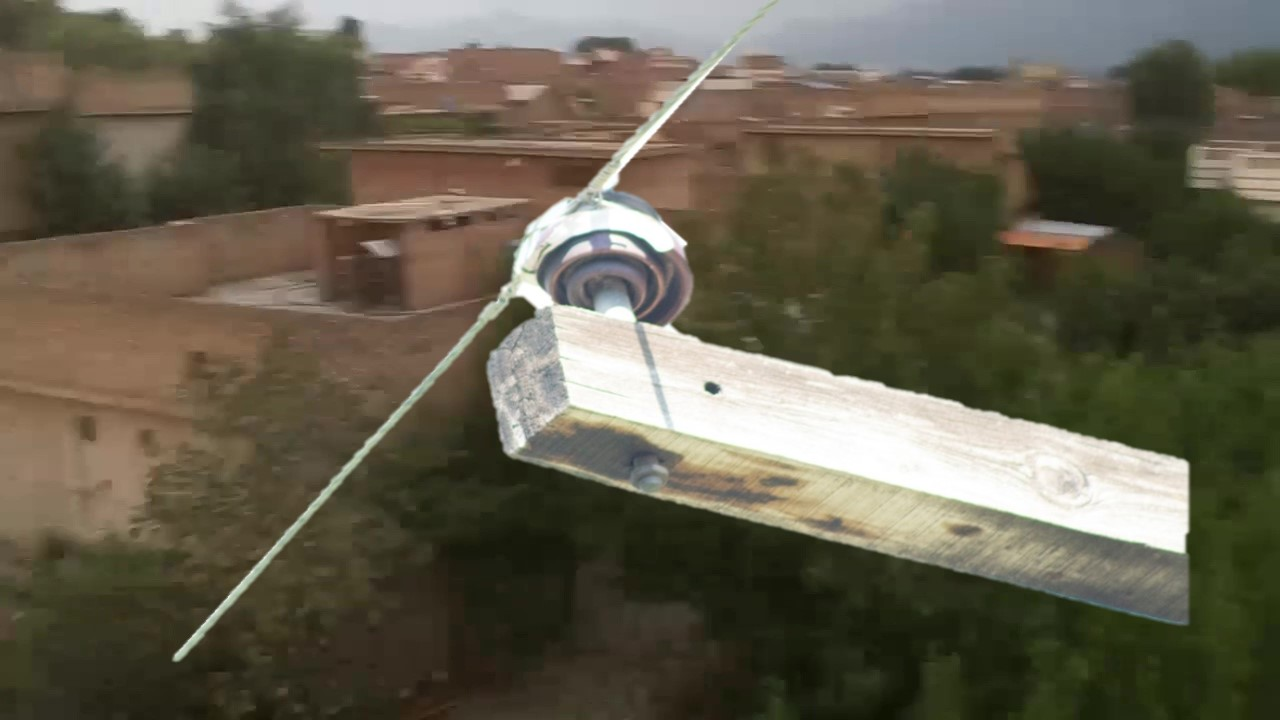defect_pin: (512, 192, 705, 326)
